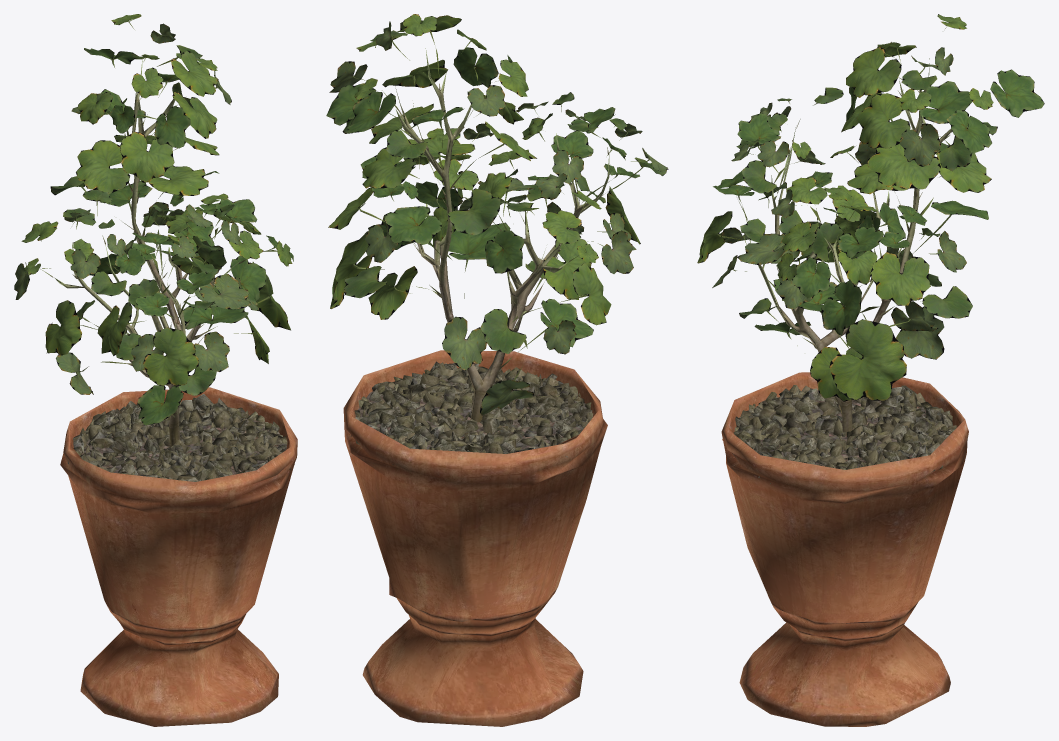
File: plant-01.glb
3 views of the same model, side by side, from view 1: azimuth 30°, elevation 25°; view 2: azimuth 150°, elevation 25°; view 3: azimuth 270°, elevation 25° (orthographic). The views are drawn at different scales.
Visible parts, largest first — view 1: potted_plant_01_pot, potted_plant_01_leaves, potted_plant_01_pebbles, potted_plant_01_stem; view 2: potted_plant_01_pot, potted_plant_01_leaves, potted_plant_01_pebbles, potted_plant_01_stem; view 3: potted_plant_01_pot, potted_plant_01_leaves, potted_plant_01_pebbles, potted_plant_01_stem.
Boxes of the visible parts, x1=… form: potted_plant_01_pot: x1=60, y1=387, x2=297, y2=726; potted_plant_01_leaves: x1=14, y1=14, x2=293, y2=425; potted_plant_01_pebbles: x1=68, y1=394, x2=294, y2=481; potted_plant_01_stem: x1=54, y1=58, x2=240, y2=446; potted_plant_01_pot: x1=343, y1=350, x2=607, y2=726; potted_plant_01_leaves: x1=326, y1=14, x2=668, y2=415; potted_plant_01_pebbles: x1=351, y1=361, x2=593, y2=464; potted_plant_01_stem: x1=395, y1=48, x2=609, y2=422; potted_plant_01_pot: x1=721, y1=372, x2=968, y2=726; potted_plant_01_leaves: x1=697, y1=14, x2=1044, y2=401; potted_plant_01_pebbles: x1=733, y1=385, x2=964, y2=483; potted_plant_01_stem: x1=749, y1=58, x2=951, y2=435.
Size of the model in its own units: 0.5866 by 1.34 by 0.6336.
Materials: 2 (2 with a texture image).
